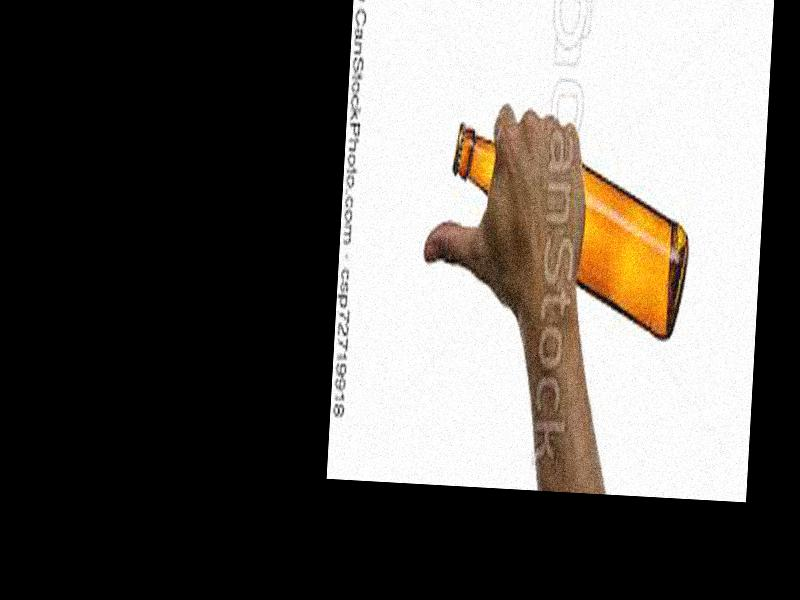Beer: (445, 126, 694, 342)
